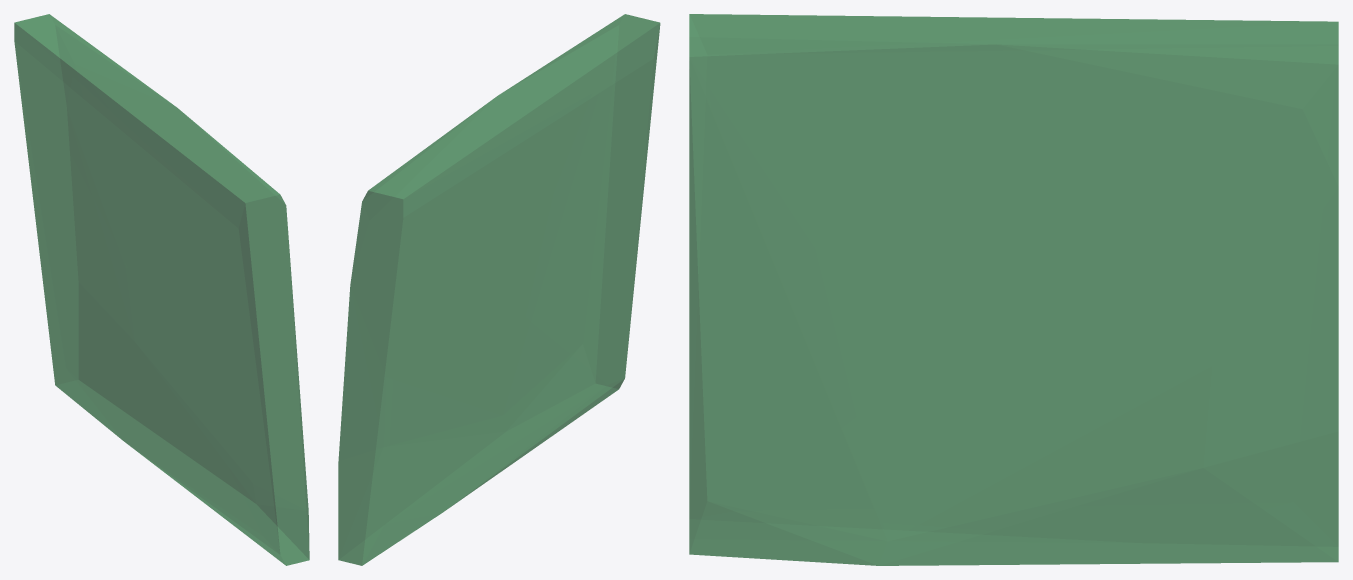
The picture shows the model from 3 angles, left to right: view 1: azimuth 30°, elevation 25°; view 2: azimuth 150°, elevation 25°; view 3: azimuth 270°, elevation 25°; orthographic projection. The views are drawn at different scales.
Parts seen in each view (by area): view 1: Shape_IndexedFaceSet.008_Shape_IndexedFaceSet.15213; view 2: Shape_IndexedFaceSet.008_Shape_IndexedFaceSet.15213; view 3: Shape_IndexedFaceSet.008_Shape_IndexedFaceSet.15213.
Boxes of the visible parts, x1,y1,x2,y2 form: Shape_IndexedFaceSet.008_Shape_IndexedFaceSet.15213: (14,14,309,565); Shape_IndexedFaceSet.008_Shape_IndexedFaceSet.15213: (338,14,660,565); Shape_IndexedFaceSet.008_Shape_IndexedFaceSet.15213: (689,14,1338,565).
Bounding box in the file's own units: 0.00609 × 0.0266 × 0.0313.
